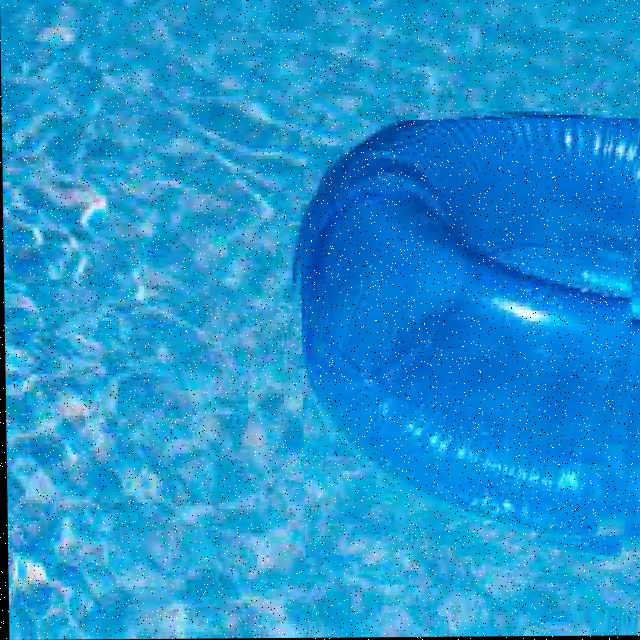lifesaver: (300, 119, 640, 542)
